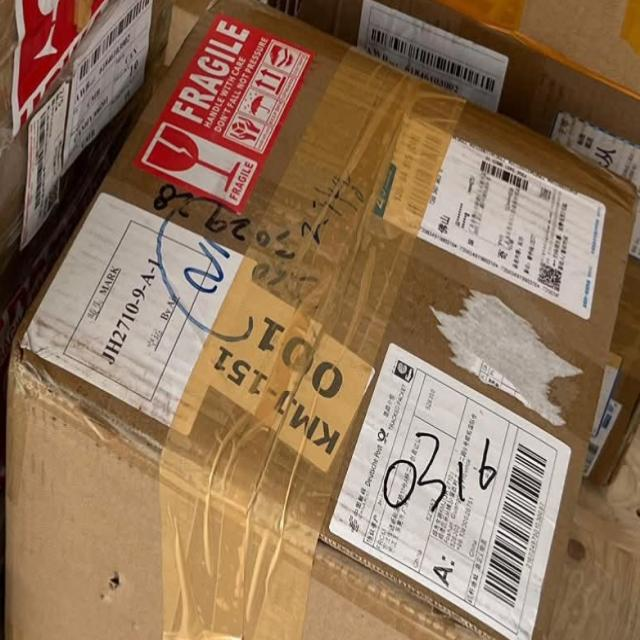carton_box: (5, 2, 636, 640)
export_mark_label: (344, 349, 602, 623), (34, 193, 250, 430), (374, 97, 606, 317)
fragile_label: (136, 123, 251, 212)
handle_with_care_label: (227, 114, 269, 152)
keep_dry_label: (241, 86, 277, 118)
this_side_up_label: (254, 63, 292, 95)
